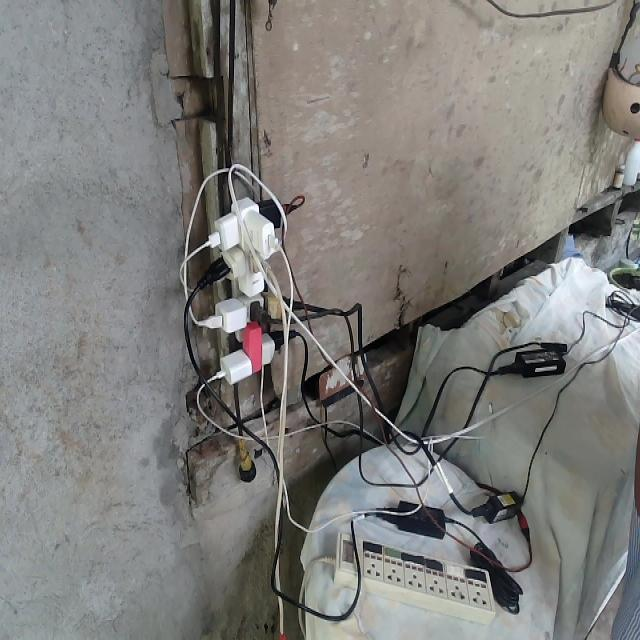-: (181, 192, 298, 383)
